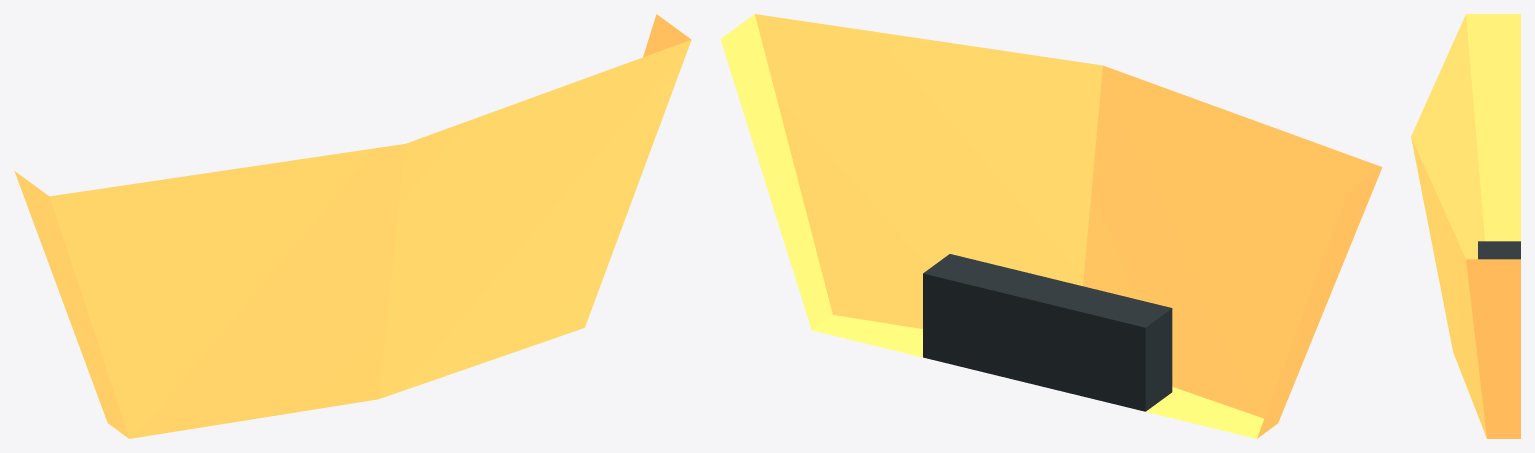
3 renders of one model, left to right at view 1: azimuth 30°, elevation 25°; view 2: azimuth 150°, elevation 25°; view 3: azimuth 270°, elevation 25°, orthographic. The views are drawn at different scales.
Parts seen in each view (by area): view 1: ambient-diffuser; view 2: ambient-diffuser, stock-wall-plate; view 3: ambient-diffuser, stock-wall-plate.
Boxes of the visible parts, bbox=[...] form: ambient-diffuser: bbox=[14, 14, 691, 438]; ambient-diffuser: bbox=[720, 14, 1382, 438]; stock-wall-plate: bbox=[923, 254, 1172, 411]; ambient-diffuser: bbox=[1411, 14, 1520, 438]; stock-wall-plate: bbox=[1478, 241, 1520, 259].
Bounding box in the file's own units: 0.204 × 0.0835 × 0.0386.
